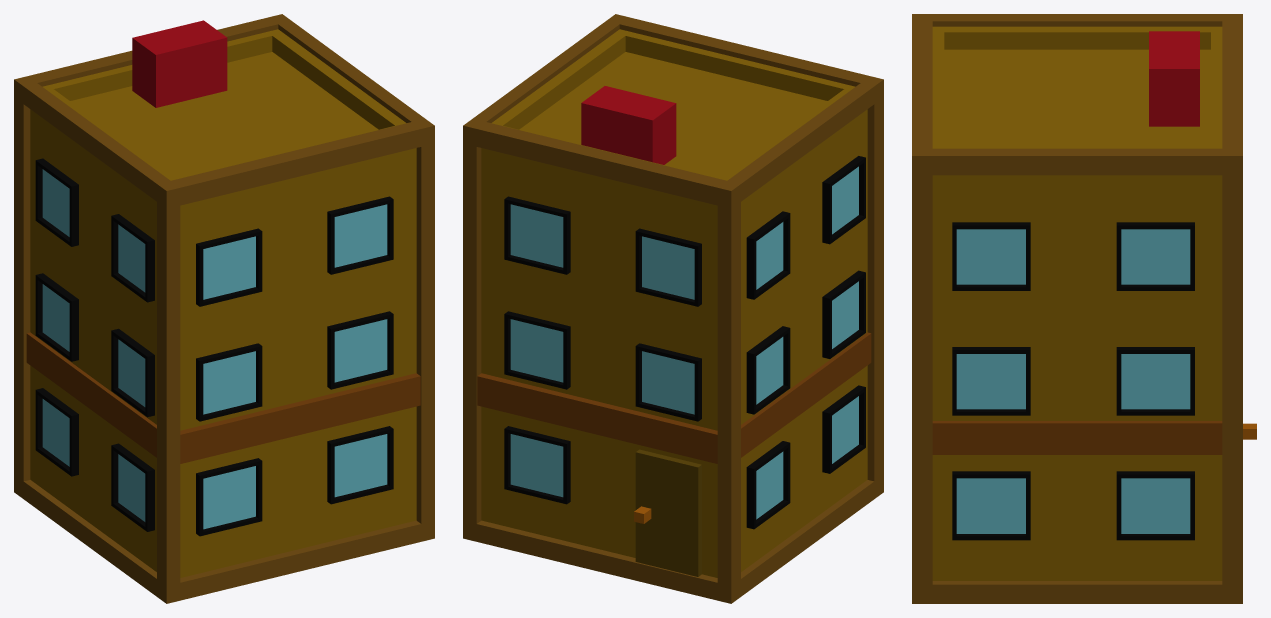
File: House23.fbx
3 renders of one model, left to right at view 1: azimuth 30°, elevation 25°; view 2: azimuth 150°, elevation 25°; view 3: azimuth 270°, elevation 25°, orthographic. The views are drawn at different scales.
Parts seen in each view (by area): view 1: House.023; view 2: House.023; view 3: House.023.
Boxes of the visible parts, box(x1,y1,x2,y2) form: House.023: box(14, 14, 434, 603); House.023: box(463, 14, 883, 603); House.023: box(912, 14, 1256, 603).
Bounding box in the file's own units: 787 × 1244 × 805.
